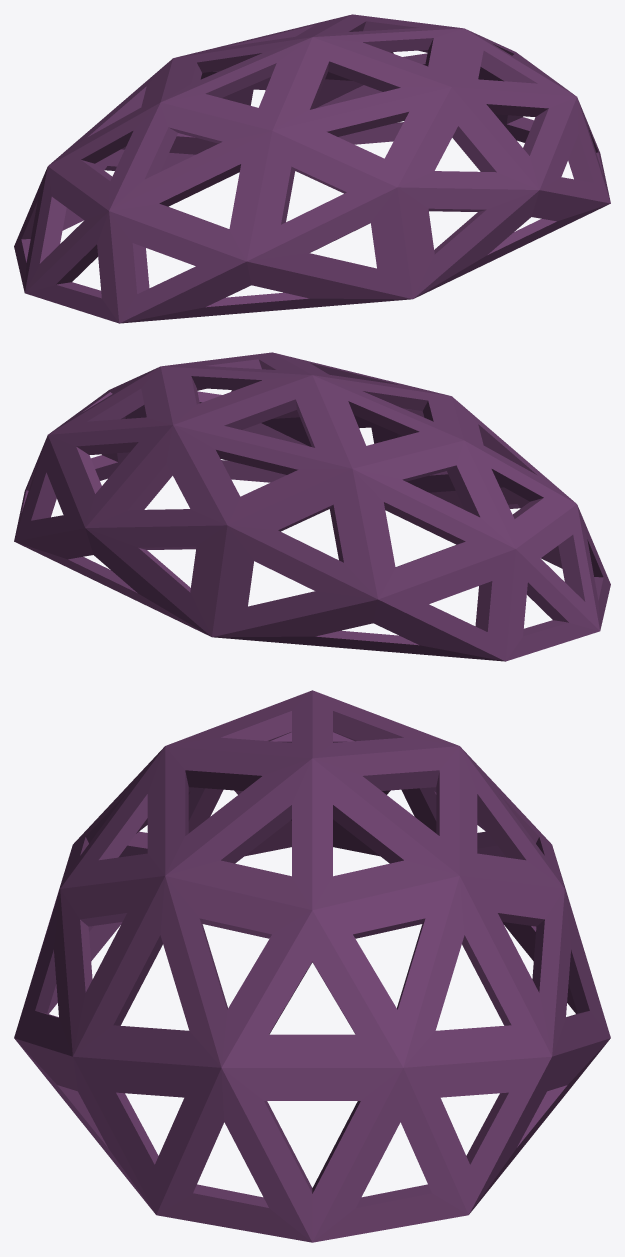
Rendered from VL_Plant07.fbx.
3 renders of one model, top to bottom at view 1: azimuth 30°, elevation 25°; view 2: azimuth 150°, elevation 25°; view 3: azimuth 270°, elevation 25°, orthographic. The views are drawn at different scales.
Parts seen in each view (by area): view 1: VL_Plant07; view 2: VL_Plant07; view 3: VL_Plant07.
Boxes of the visible parts, x1,y1,x2,y2 form: VL_Plant07: [14, 14, 610, 323]; VL_Plant07: [14, 352, 610, 661]; VL_Plant07: [14, 690, 610, 1242].
Size of the model in its own units: 103 by 32.16 by 62.05.
1 material, 1 textured.
